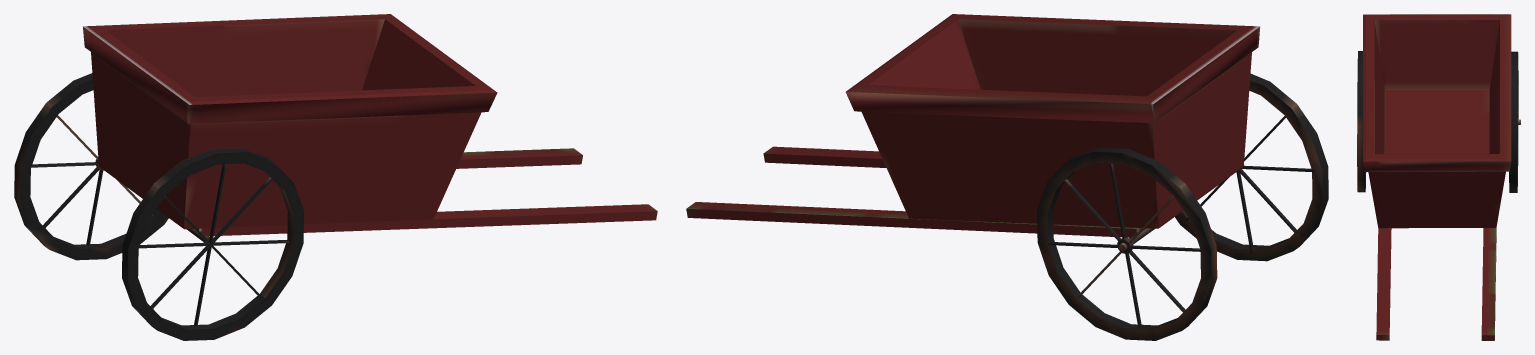
File: CartWheel1.fbx
3 renders of one model, left to right at view 1: azimuth 30°, elevation 25°; view 2: azimuth 150°, elevation 25°; view 3: azimuth 270°, elevation 25°, orthographic. The views are drawn at different scales.
Parts seen in each view (by area): view 1: CartWheel1_LOD0; view 2: CartWheel1_LOD0; view 3: CartWheel1_LOD0.
Boxes of the visible parts, bbox=[...] form: CartWheel1_LOD0: bbox=[14, 14, 657, 340]; CartWheel1_LOD0: bbox=[686, 14, 1328, 340]; CartWheel1_LOD0: bbox=[1357, 14, 1520, 340].
Size of what is drawn, in the model's own units: 176 by 73.97 by 66.17.
